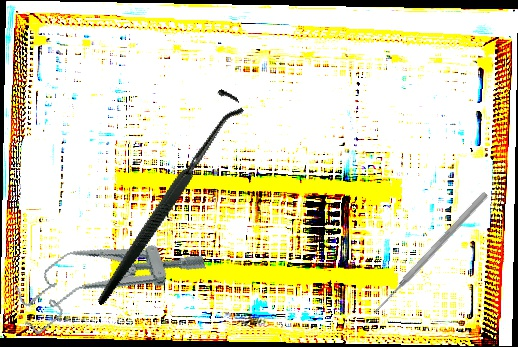Hook Surgical: (37, 84, 293, 306)
Pusher: (369, 190, 490, 318)
Speculum: (9, 215, 210, 338)
